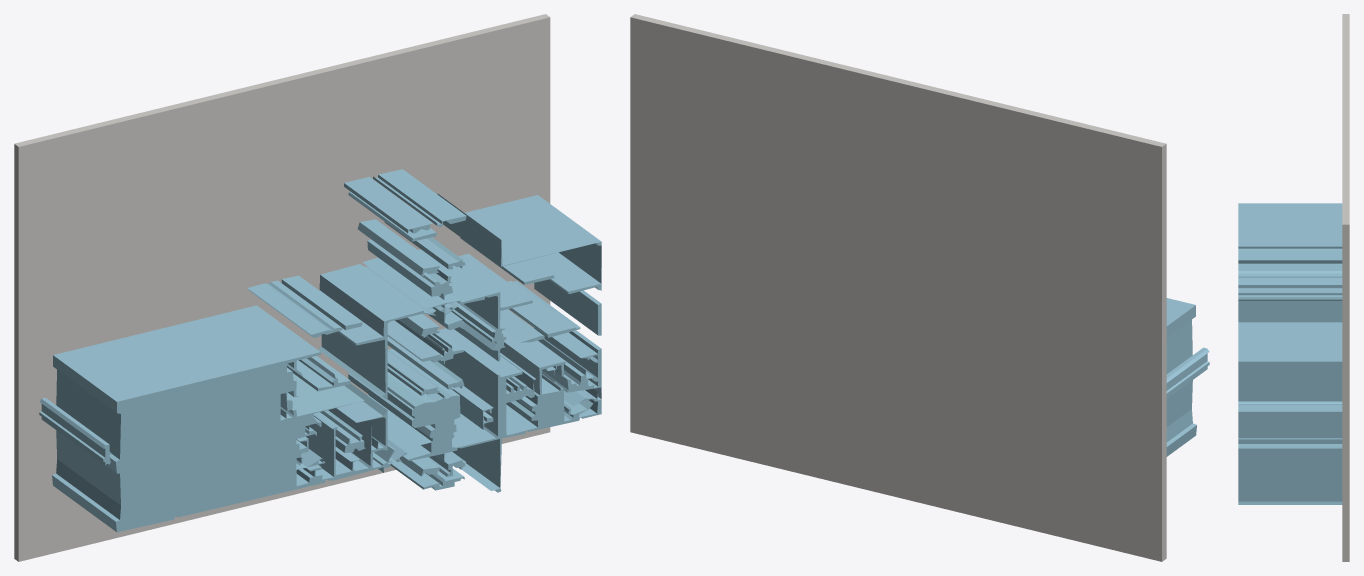
3 views of the same model, side by side, from view 1: azimuth 30°, elevation 25°; view 2: azimuth 150°, elevation 25°; view 3: azimuth 270°, elevation 25° (orthographic). The views are drawn at different scales.
Parts seen in each view (by area): view 1: world; view 2: world; view 3: world.
Part boxes in pixels (x1=…): world: x1=14, y1=14, x2=601, y2=561; world: x1=630, y1=14, x2=1209, y2=561; world: x1=1238, y1=14, x2=1349, y2=561.
Bounding box in the file's own units: 10.23 × 7.63 × 2.28.
